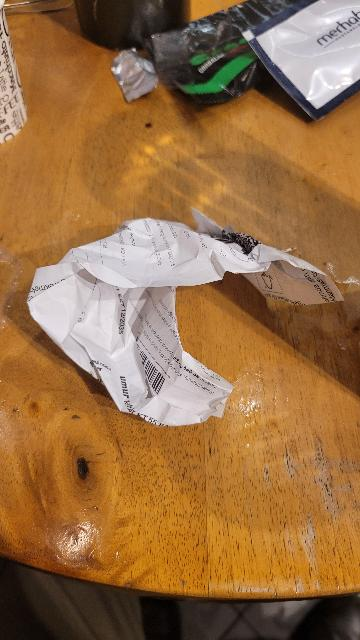Kagit: (25, 206, 346, 433), (0, 0, 37, 153), (98, 41, 160, 114)
Plastik: (154, 0, 360, 135)
